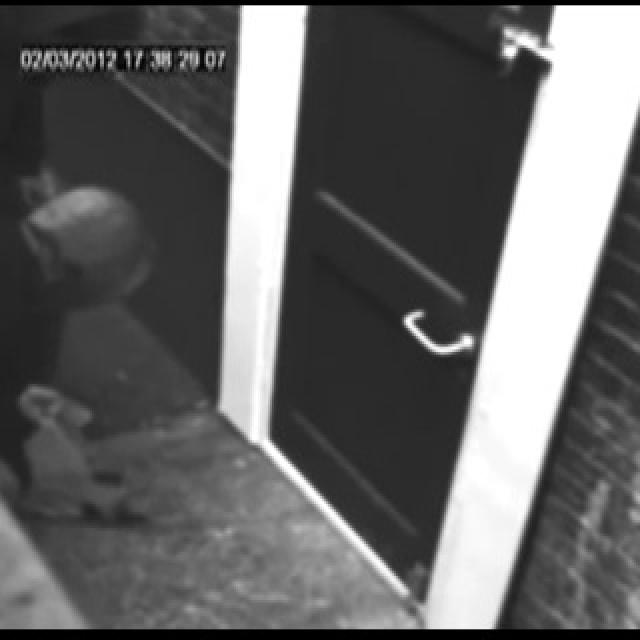thief: (13, 165, 159, 316)
